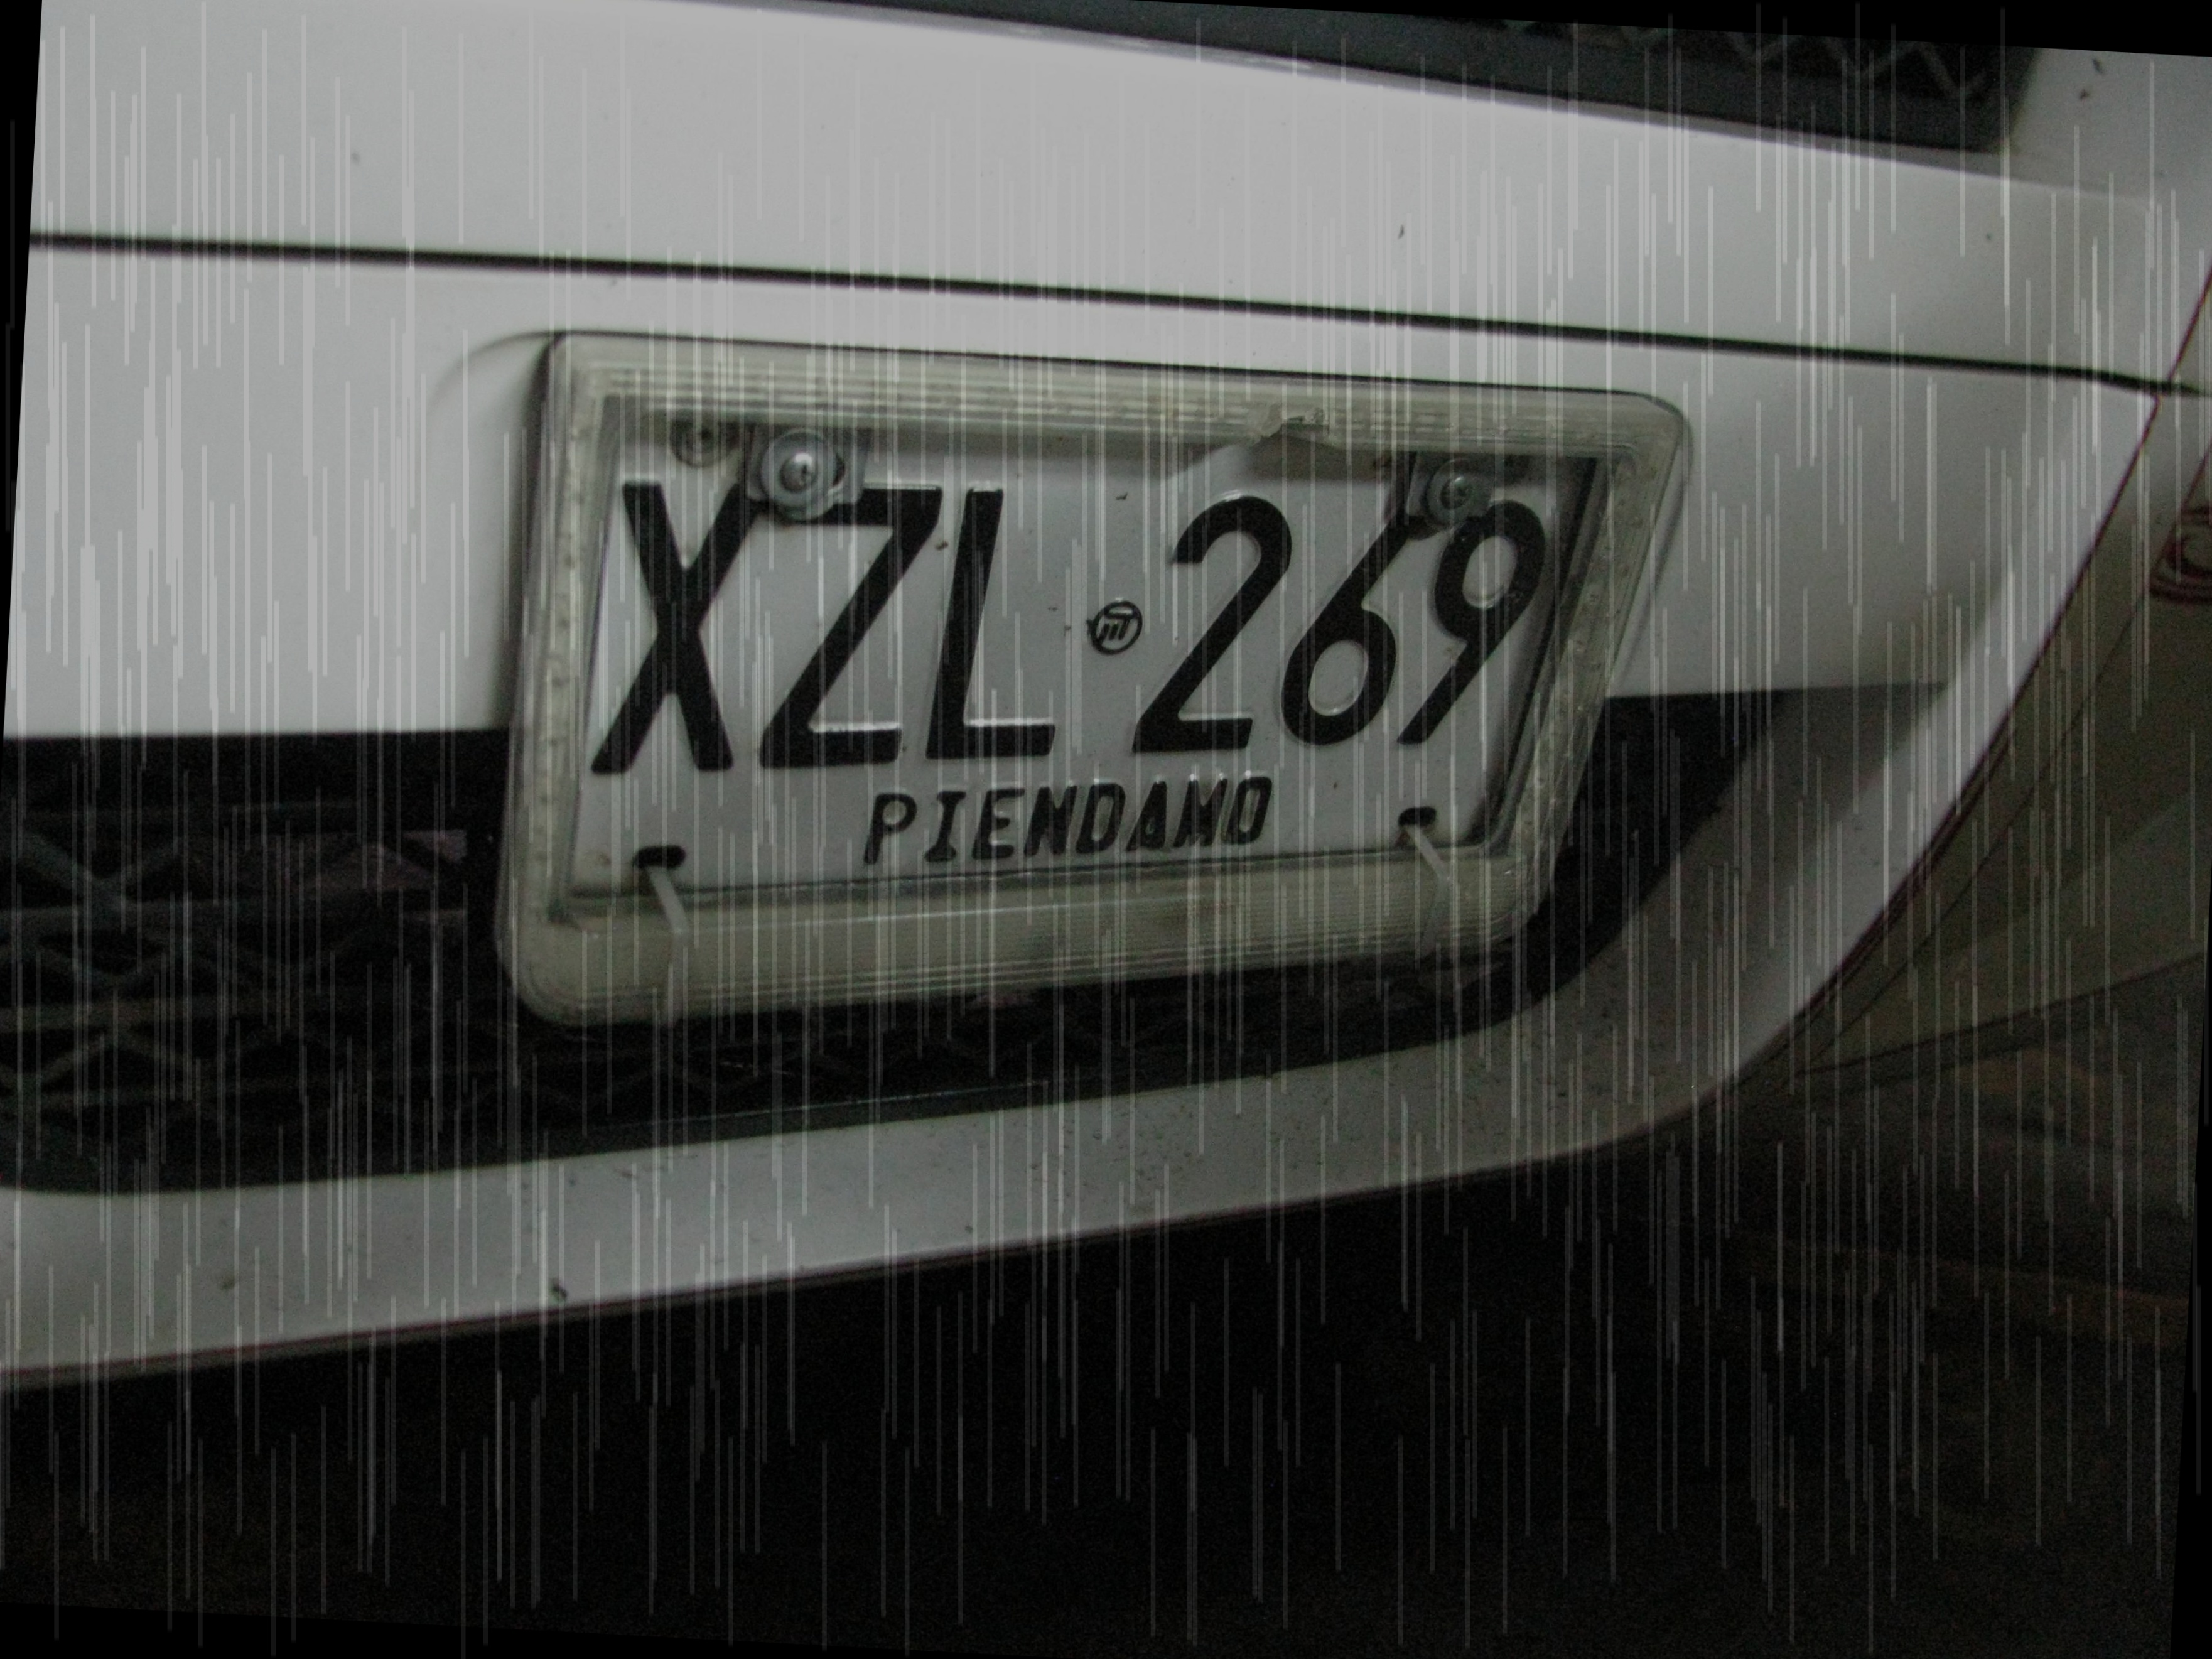placas: (563, 382, 1608, 954)
